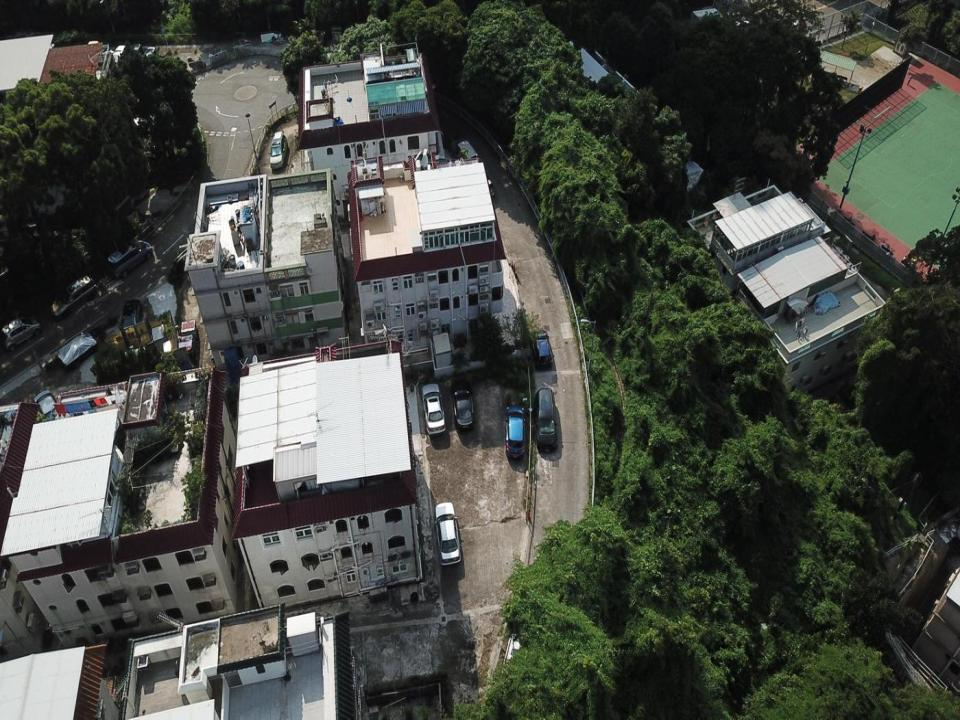car: (48, 275, 99, 320), (56, 326, 107, 370), (501, 616, 532, 680), (107, 238, 154, 280), (434, 502, 462, 566), (534, 388, 558, 452), (2, 315, 42, 352), (450, 378, 476, 432), (420, 383, 446, 436), (34, 388, 64, 432), (468, 157, 495, 205), (504, 404, 527, 459), (529, 328, 553, 371), (449, 136, 478, 170), (120, 299, 143, 341), (268, 131, 288, 170), (110, 44, 127, 69)
